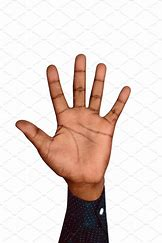palm: (14, 53, 132, 184)
